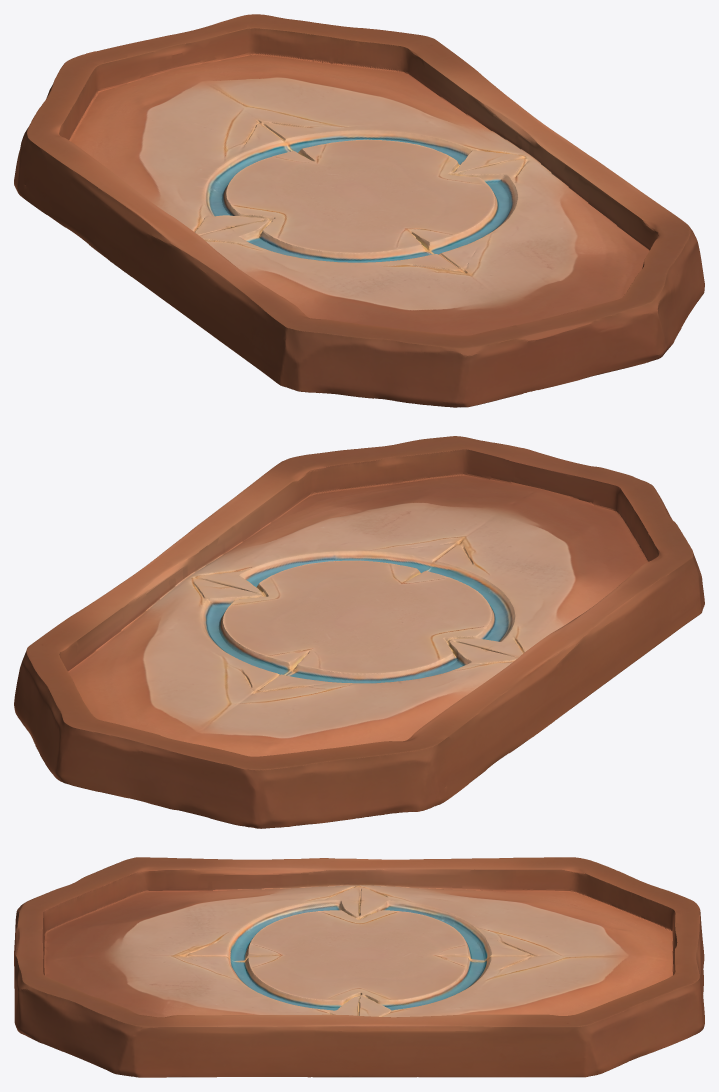
The model's file is e4bba52c-0b69-4b38-b106-c2692c6bcc07.glb.
3 renders of one model, top to bottom at view 1: azimuth 30°, elevation 25°; view 2: azimuth 150°, elevation 25°; view 3: azimuth 270°, elevation 25°, orthographic. The views are drawn at different scales.
Visible parts, largest first — view 1: model; view 2: model; view 3: model.
Boxes of the visible parts, x1,y1,x2,y2 form: model: (14, 14, 704, 407); model: (14, 436, 704, 828); model: (14, 857, 704, 1077).
Size of the model in its own units: 1.11 by 0.1405 by 1.83.
Materials: 1 (1 with a texture image).
